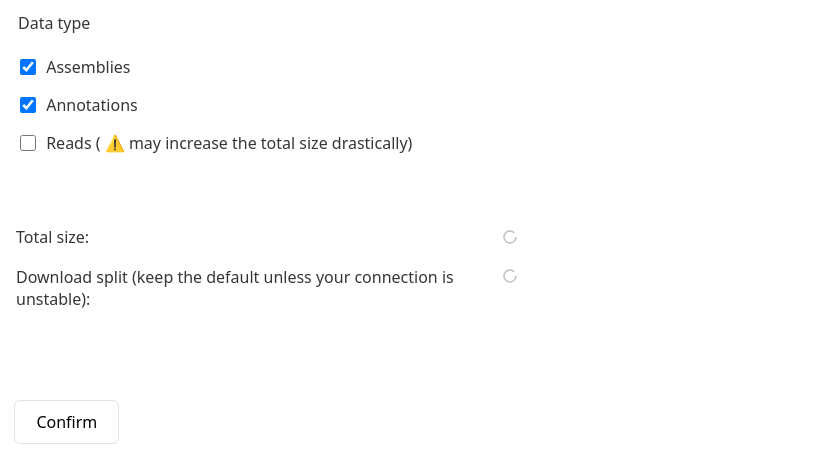
it: on form submit › shows the post-submit warning if the download URL response include the sample download limit
The width and height of the screenshot is (828, 461).
What coordinates should you click on to do the following:
click the button "Confirm"
I would click on:
 (67, 422)
Its box is [14, 400, 119, 444].
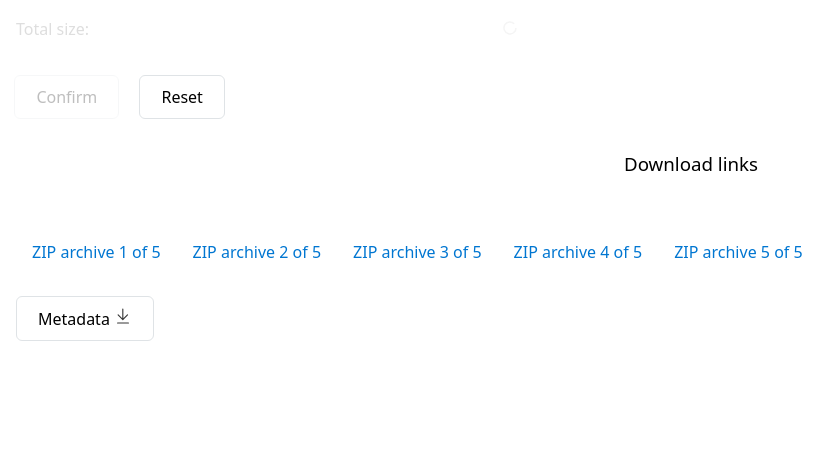
Expected: the text "⚠️ Only " is not shown
What coordinates should you click on to do the following:
click the button "Reset"
I would click on:
 (182, 97)
Its box is [140, 75, 225, 119].
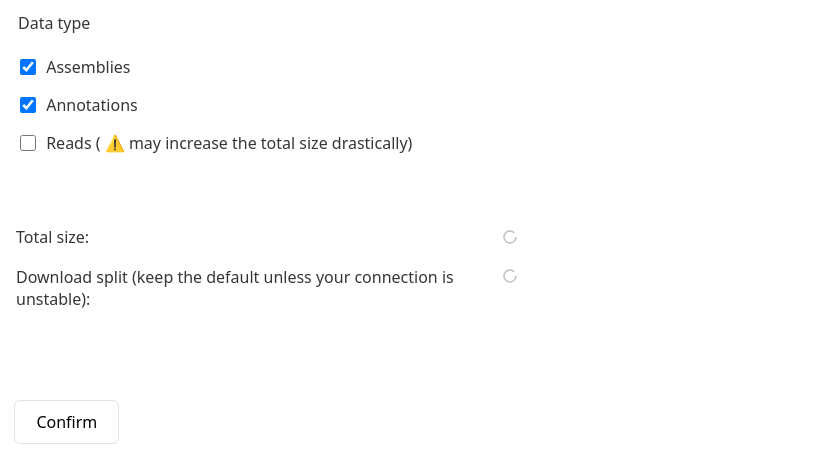
What coordinates should you click on to do the following:
click the button "Confirm"
I would click on:
 (67, 422)
Its box is [14, 400, 119, 444].
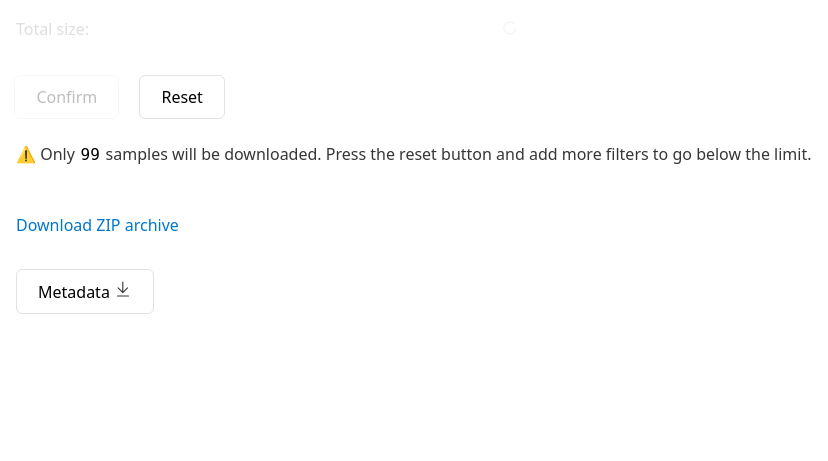
Now the text "⚠️ Only " shows "⚠️ Only 99 samples will be downloaded. Press the reset button and add more filters to go below the limit.", box [16, 143, 812, 165]
